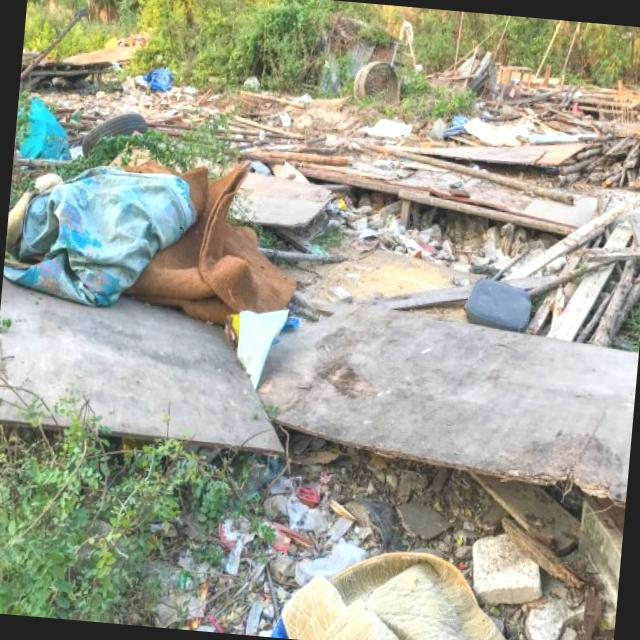garbage: (10, 30, 640, 625)
